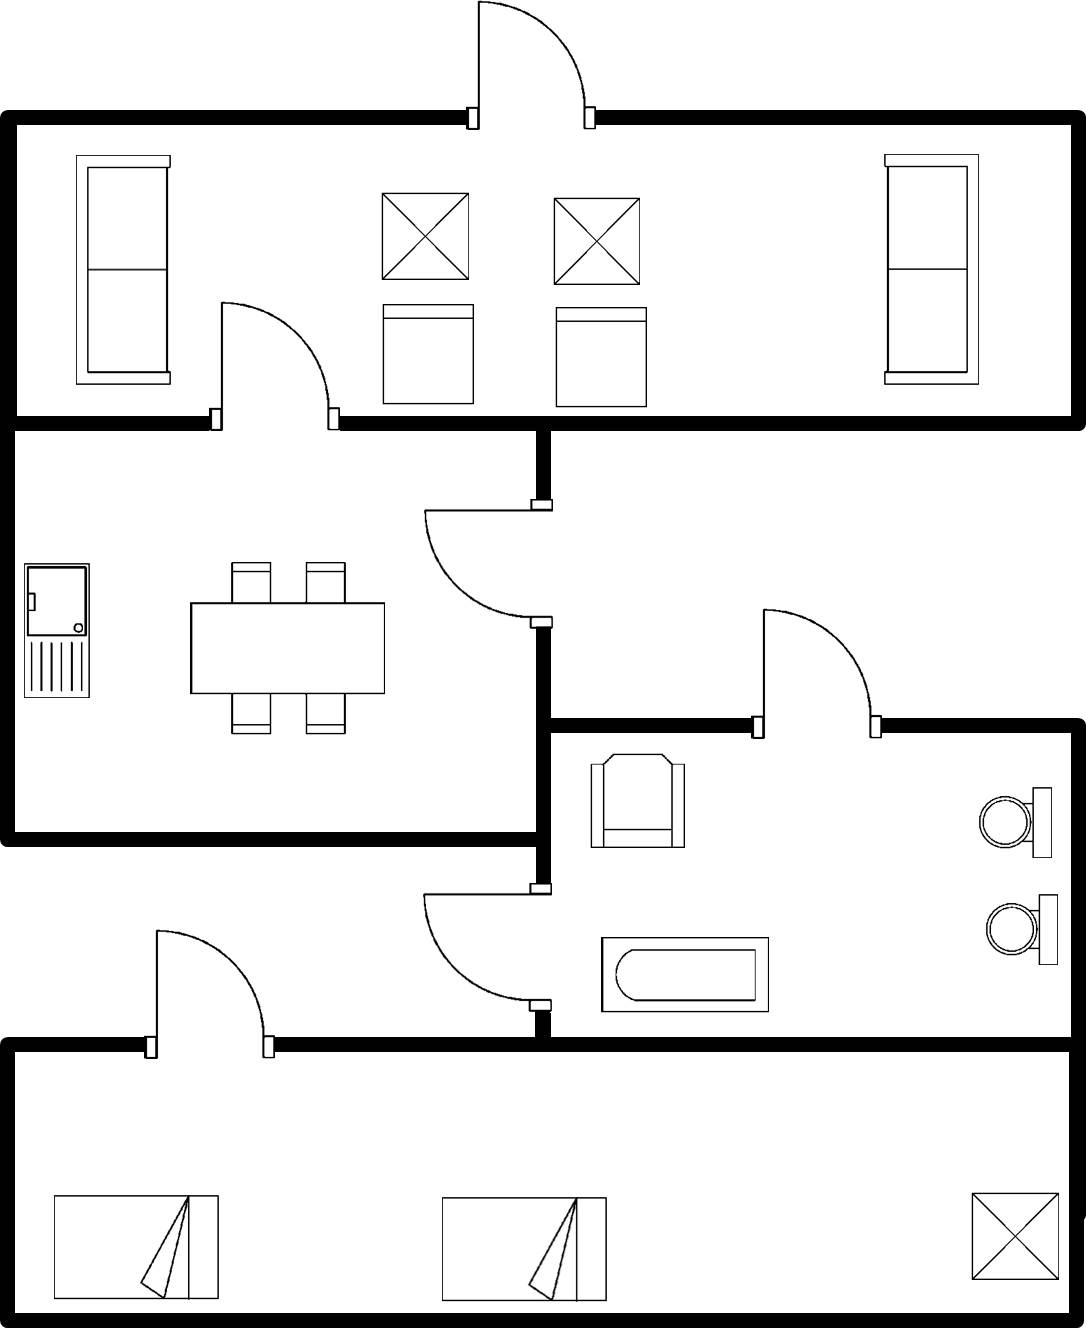armchair: (578, 742, 695, 857)
bed: (429, 1188, 620, 1309), (43, 1184, 230, 1306)
coffee_table: (960, 1183, 1067, 1290), (542, 189, 651, 292), (372, 187, 482, 287)
dining_table: (176, 550, 394, 745)
large_sink: (973, 884, 1064, 980), (970, 775, 1060, 868)
large_sofa: (869, 144, 989, 399), (68, 148, 178, 393)
sink: (20, 554, 98, 706)
small_sofa: (373, 297, 486, 410), (547, 298, 655, 414)
tub: (589, 925, 781, 1024)
